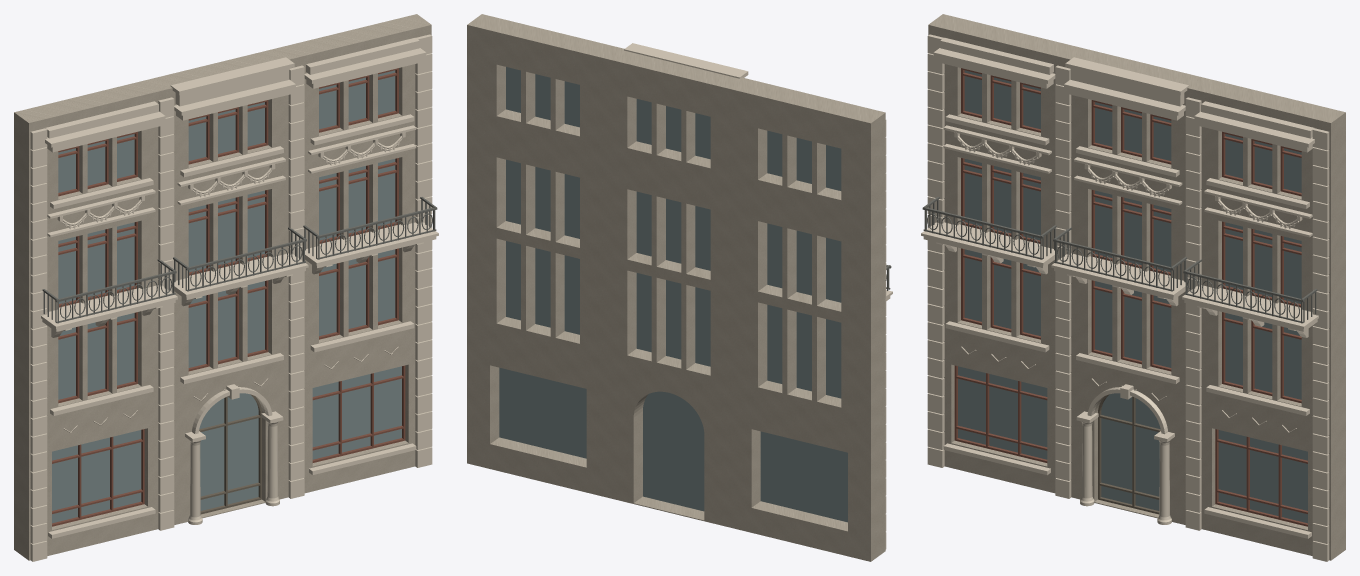
The model's file is huangpu-shanghai-money-guild-front-raw.glb.
3 views of the same model, side by side, from view 1: azimuth 30°, elevation 25°; view 2: azimuth 150°, elevation 25°; view 3: azimuth 330°, elevation 25° (orthographic).
Visible parts, largest first — view 1: 上海钱业公会大楼（宁波路三开间正面）; view 2: 上海钱业公会大楼（宁波路三开间正面）; view 3: 上海钱业公会大楼（宁波路三开间正面）.
Boxes of the visible parts, x1,y1,x2,y2 form: 上海钱业公会大楼（宁波路三开间正面）: [14, 14, 438, 561]; 上海钱业公会大楼（宁波路三开间正面）: [467, 14, 892, 561]; 上海钱业公会大楼（宁波路三开间正面）: [921, 14, 1345, 561].
Bounding box in the file's own units: 15.08 × 15.7 × 2.07.
Materials: 6 (1 with a texture image).
